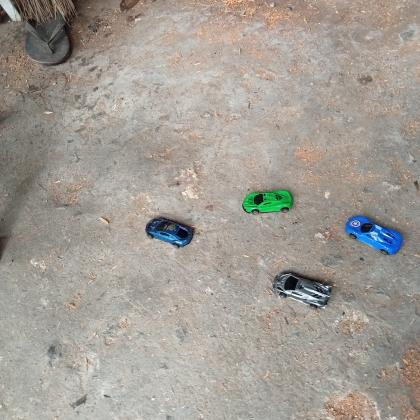Car: (345, 215, 404, 256), (273, 272, 333, 310), (145, 218, 194, 249), (242, 190, 294, 214)
